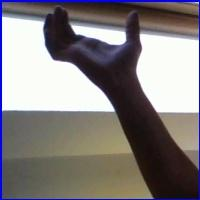space: (32, 4, 157, 85)
